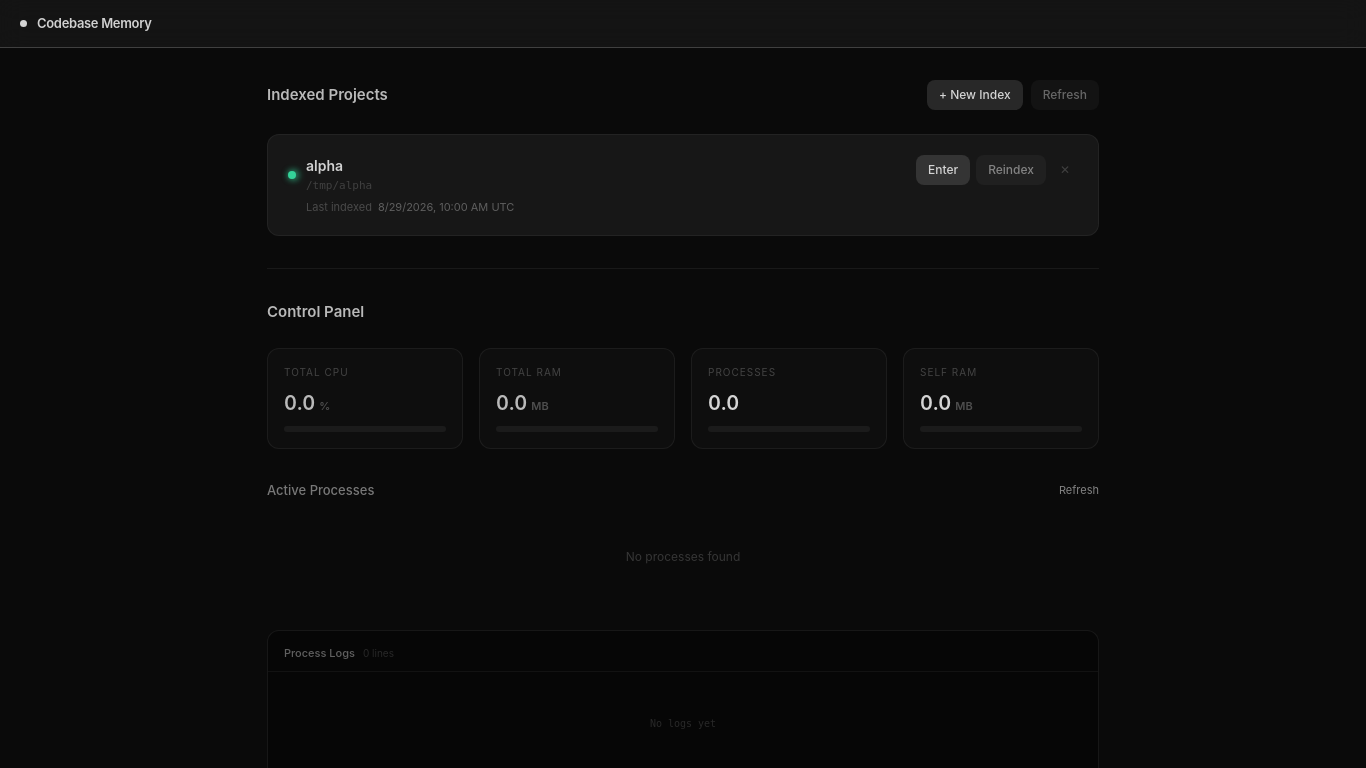
Test: App routing + workspace › Dashboard Reindex starts a job and stays on Dashboard
Expected: the heading "alpha" is shown, [306,157,343,174]
Click the button "Reindex": (1011, 170) [976,155,1046,185]
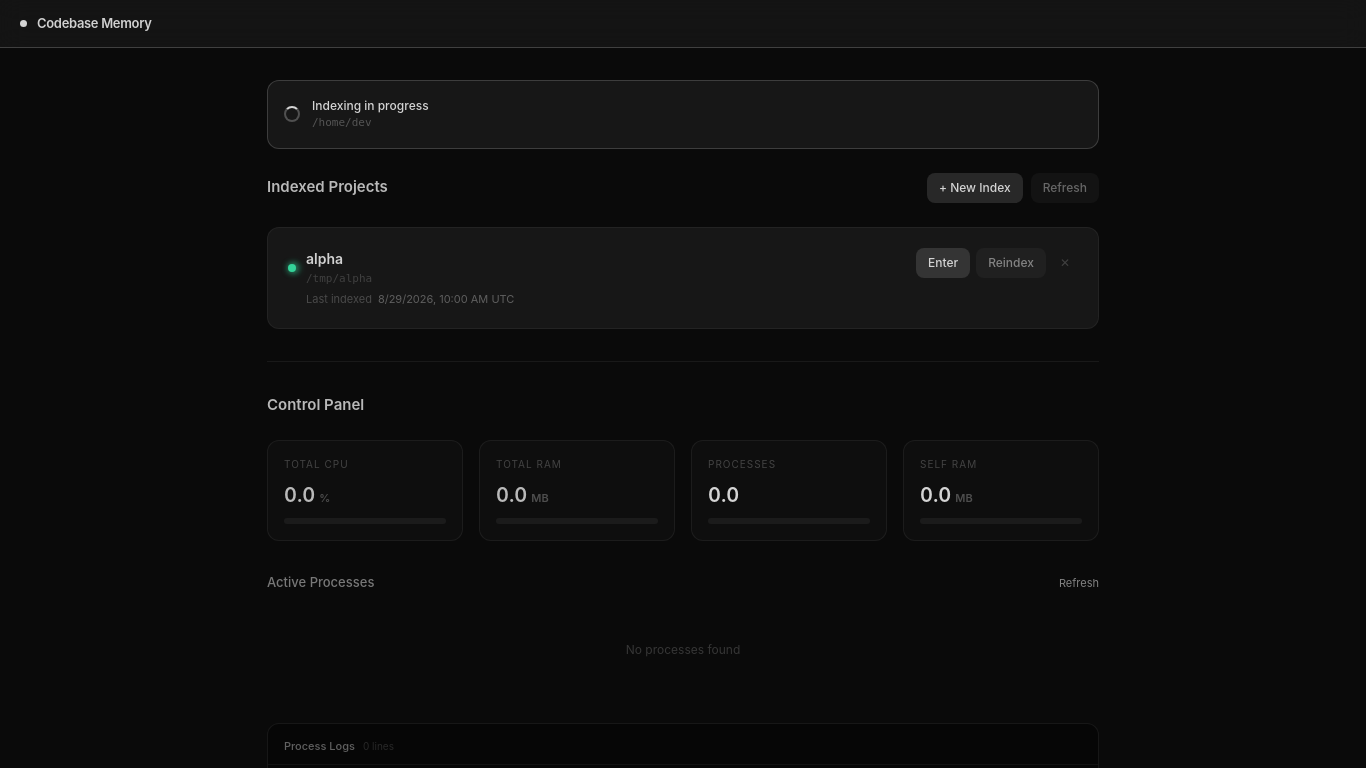
Expected: the heading "alpha" is shown, [306,250,343,266]
Expected: the text "Indexing in progress" is shown, [312,97,429,115]
